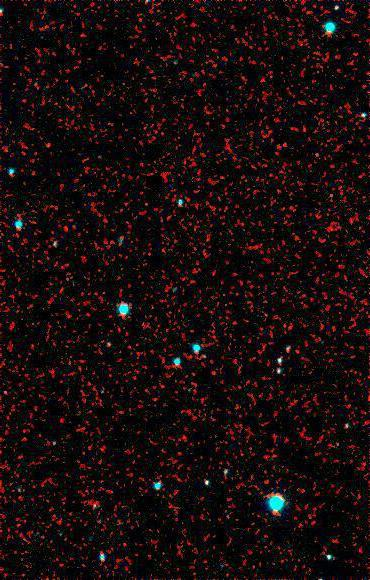star: (35, 131, 65, 161)
